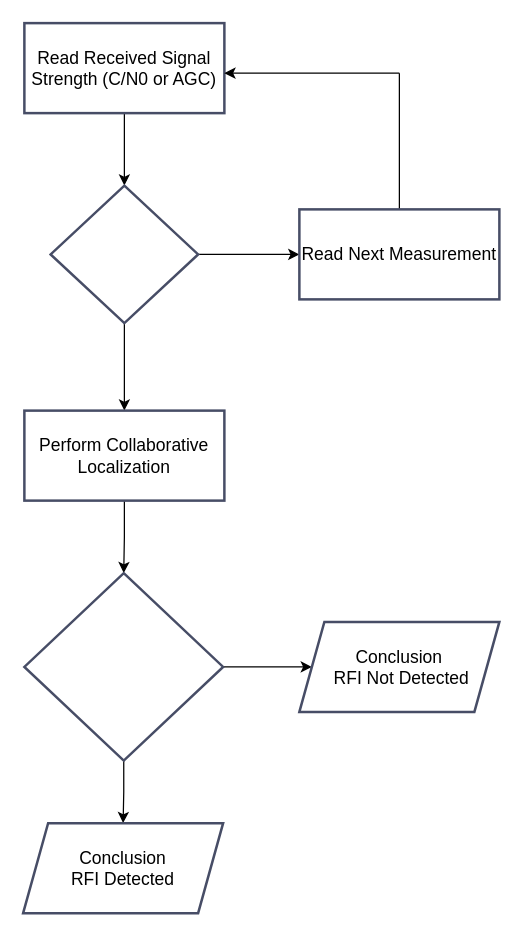
Image size: 521x935. Some labels were removed from this diagram. Here are the shapes that lost their labels. From the top down, the centre of each, then its label:
At (x=124, y=254): "Is Strength <Threshold?".
At (x=123, y=666): "Estimated Loc fully/partially match true location?".
